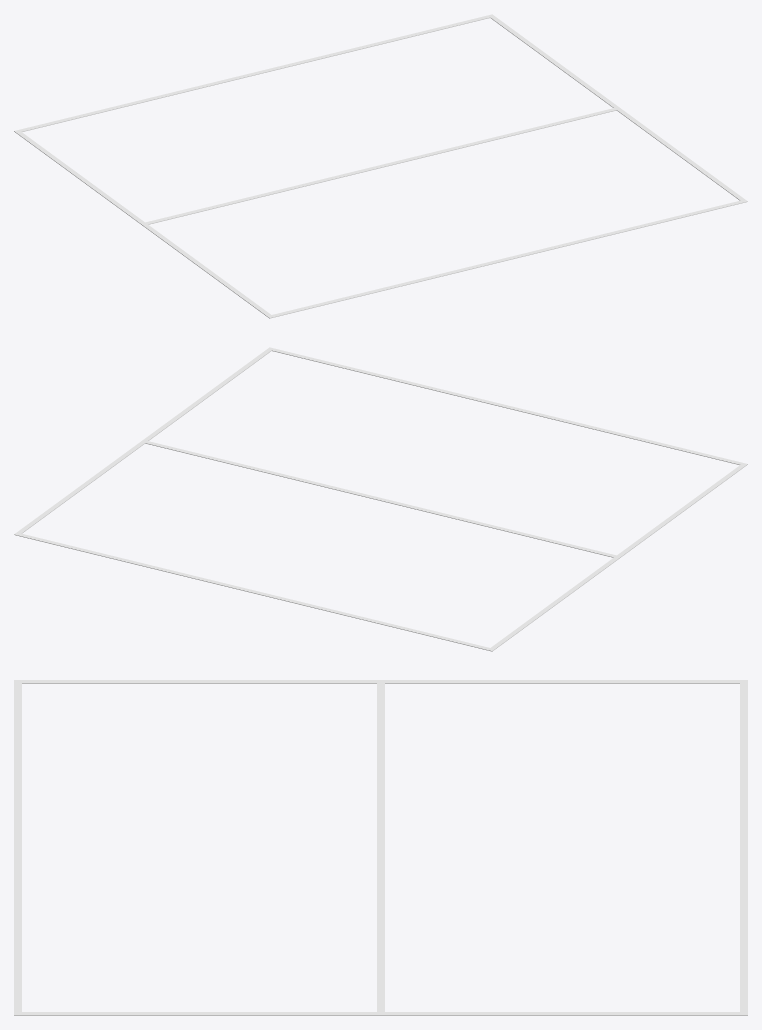
The picture shows the model from 3 angles, top to bottom: view 1: azimuth 30°, elevation 25°; view 2: azimuth 150°, elevation 25°; view 3: azimuth 270°, elevation 25°; orthographic projection. The views are drawn at different scales.
Visible parts, largest first — view 1: Court line, Court line.002, Court line.001, Court outer line, Court outer line.001; view 2: Court line.002, Court line, Court line.001, Court outer line, Court outer line.001; view 3: Court outer line, Court outer line.001, Court line, Court line.002, Court line.001.
Part boxes in pixels (box(x1,y1,x2,y2)): Court line: box(267, 199, 747, 318); Court line.002: box(14, 14, 494, 132); Court line.001: box(141, 107, 620, 225); Court outer line: box(15, 131, 270, 316); Court outer line.001: box(490, 15, 744, 201); Court line.002: box(14, 532, 494, 651); Court line: box(267, 347, 747, 465); Court line.001: box(141, 440, 620, 558); Court outer line: box(491, 464, 746, 649); Court outer line.001: box(17, 348, 271, 533); Court outer line: box(18, 680, 743, 683); Court outer line.001: box(18, 1012, 743, 1015); Court line: box(14, 680, 21, 1015); Court line.002: box(740, 680, 747, 1015); Court line.001: box(377, 680, 384, 1015).
Size of the model in its own units: 4.04 by 0.004 by 3.74.
Materials: 1 (1 with a texture image).
